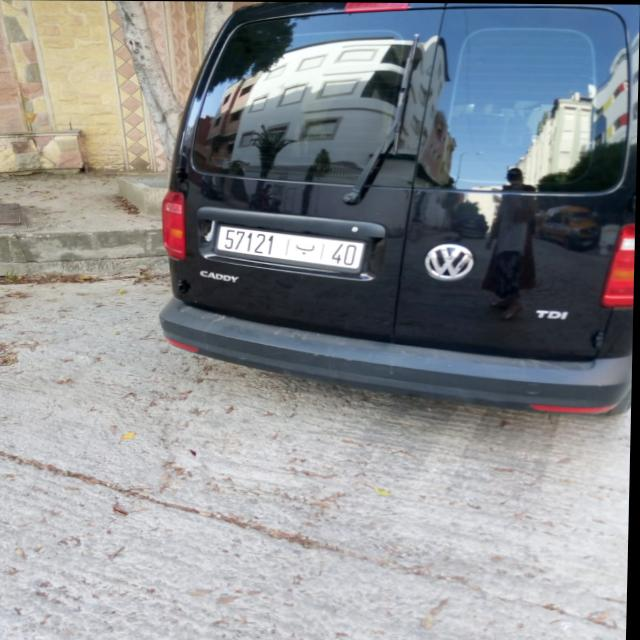License-Plate: (218, 226, 365, 268)
